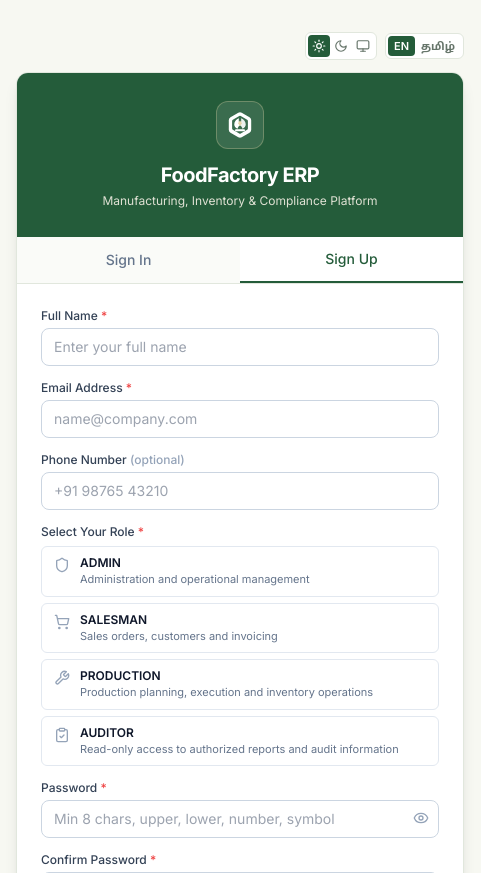
Test: Public Sign Up UI Suite › 3. Submits valid registration, redirects to Sign In with prefilled email, and shows success banner
This screenshot has width=481, height=873.
Type "Jane Doe" into the field labelled "Full Name *". click: (240, 347)
box: [41,328,439,366]
Type "jane.doe@foodfactory.com" into the field labelled "Email Address *". click: (240, 419)
box: [41,400,439,438]
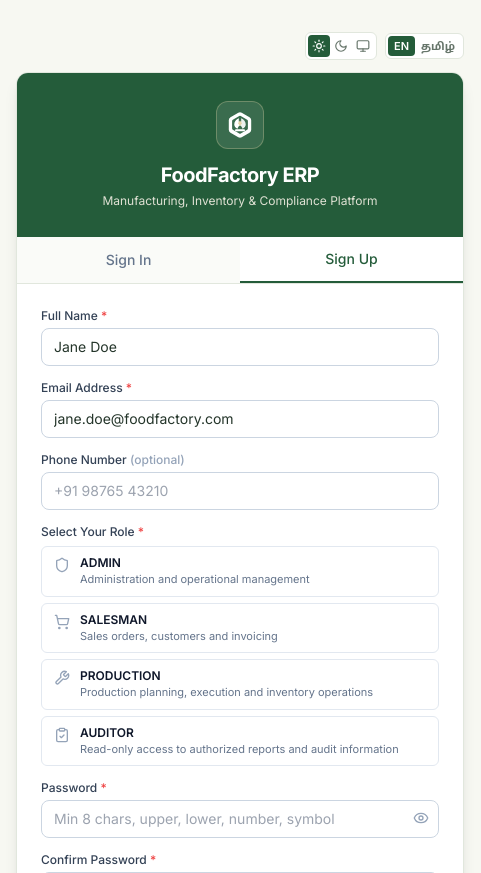
Type "+91 9876543210" into the field labelled "Phone Number (optional)". click: (240, 491)
box: [41,472,439,510]
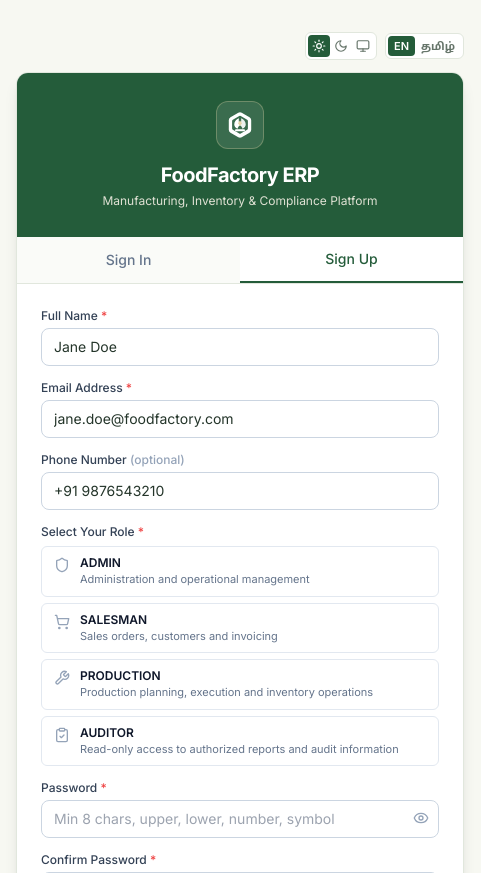
Click the radio button labelled "SALESMAN Sales orders, customers and invoicing". click: (240, 628)
box: [41,602,439,653]
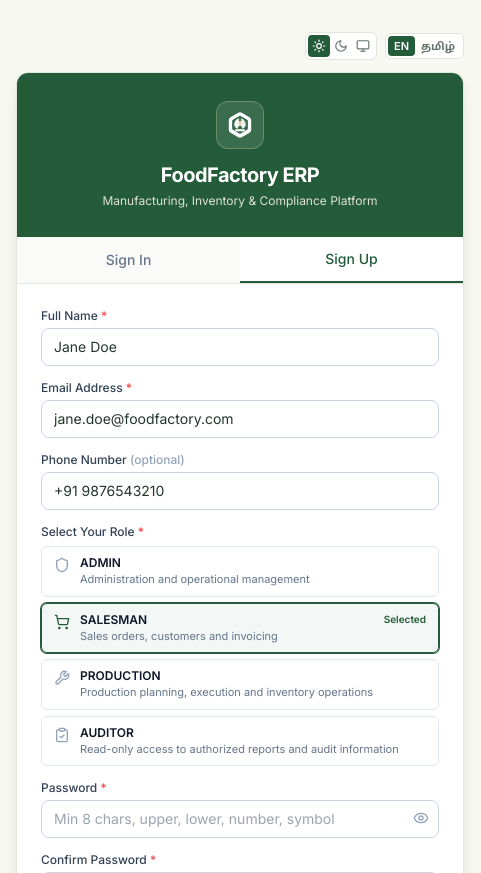
Type "StrongPass1!" into the password field labelled "Password *". click: (240, 819)
box: [41,800,439,838]
(page scrolled)
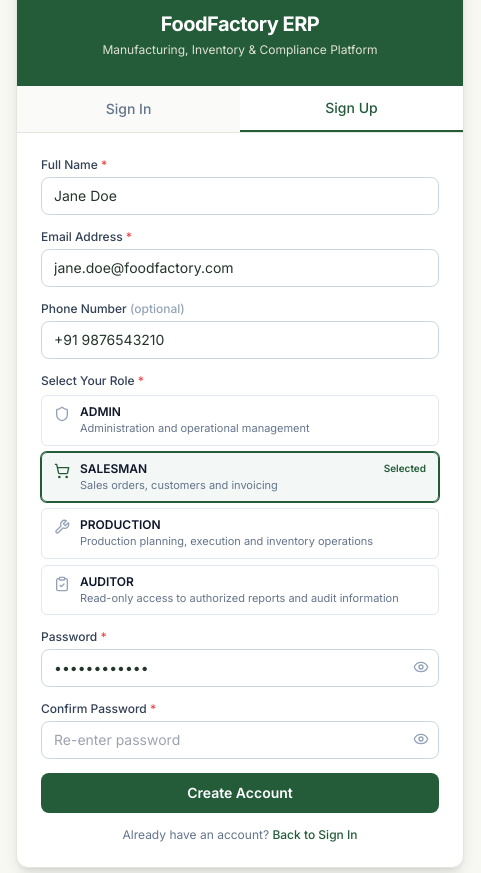
Type "StrongPass1!" into the password field labelled "Confirm Password *". click: (240, 740)
box: [41,721,439,759]
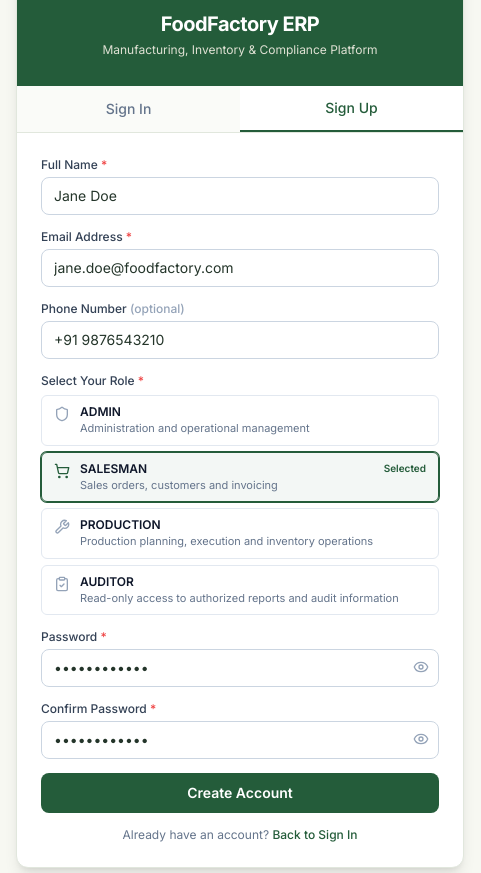
Click the button "Create Account". click: (240, 793)
box: [41,773,439,813]
(page scrolled)
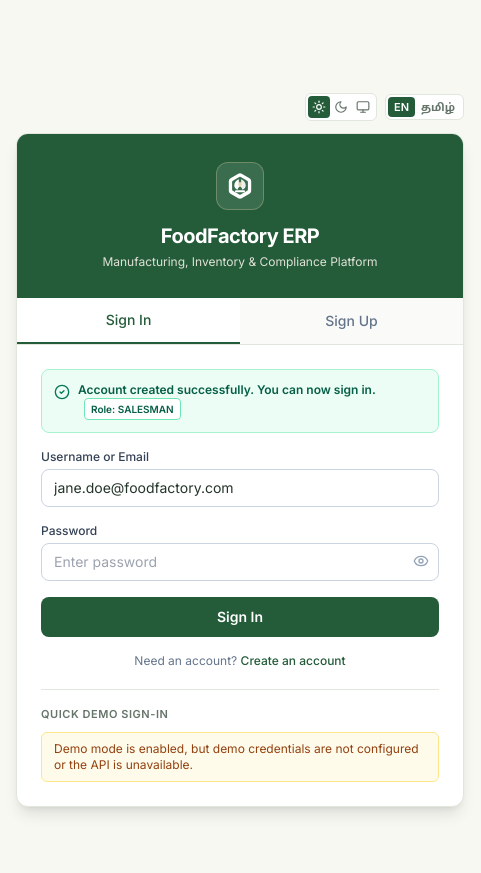
expect the text "Account created successfully. You can now sign in." is shown: met, box [78,382,376,397]
expect the field labelled "Username or Email" holds "jane.doe@foodfactory.com": met, box [41,469,439,507]
